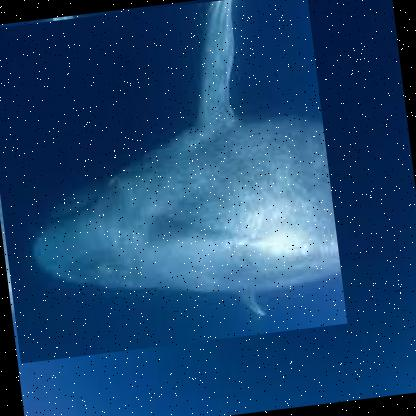blue_whale: (0, 0, 347, 364)
